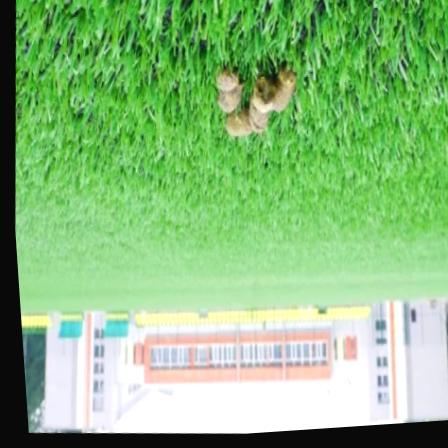dog-poop: (208, 51, 300, 150)
